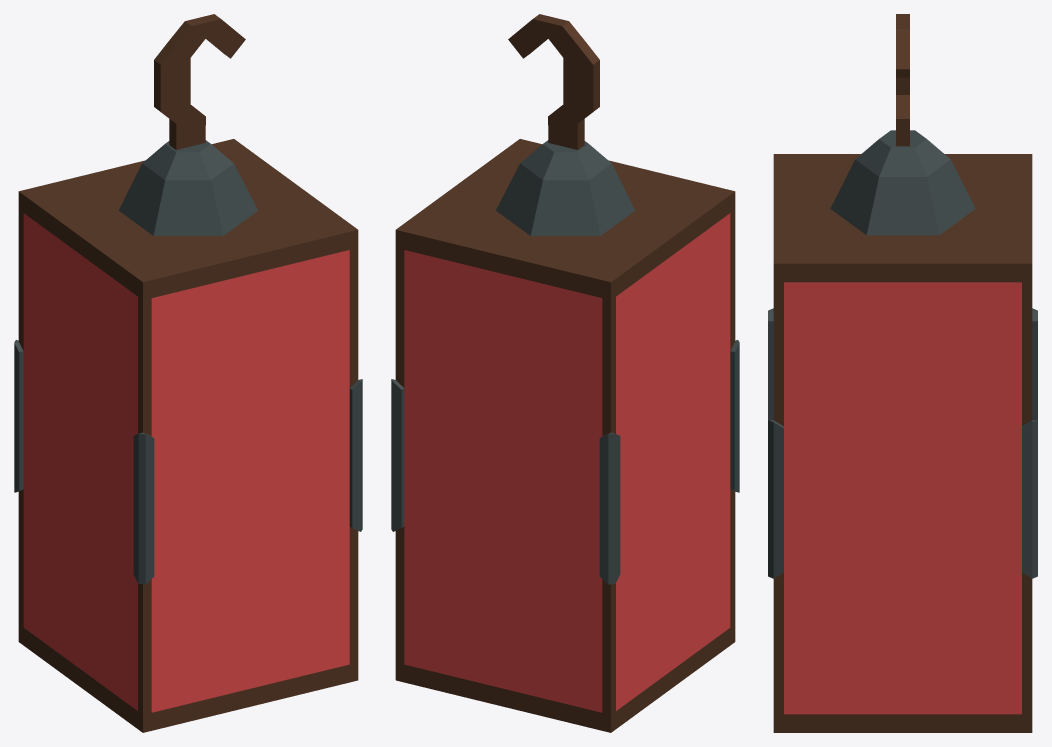
The model's file is Lamp_4_Red.fbx.
3 views of the same model, side by side, from view 1: azimuth 30°, elevation 25°; view 2: azimuth 150°, elevation 25°; view 3: azimuth 270°, elevation 25° (orthographic). The views are drawn at different scales.
Parts seen in each view (by area): view 1: Lamp_4_Red; view 2: Lamp_4_Red; view 3: Lamp_4_Red.
Boxes of the visible parts, left/top/right/bottom form: Lamp_4_Red: left=14, top=14, right=362, bottom=732; Lamp_4_Red: left=391, top=14, right=739, bottom=732; Lamp_4_Red: left=768, top=14, right=1037, bottom=732.
Bounding box in the file's own units: 25 × 67.91 × 25.
